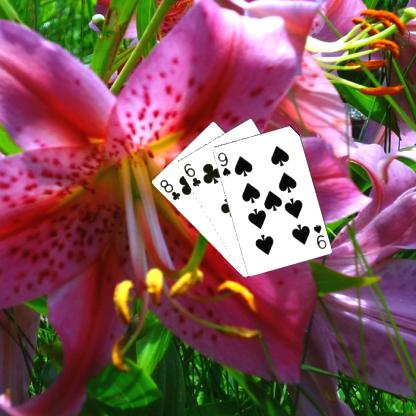6C: (181, 160, 202, 188)
8C: (157, 176, 181, 202)
9S: (310, 222, 328, 250), (215, 149, 232, 178)
